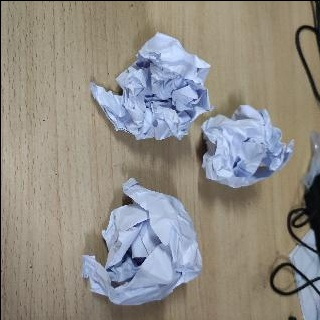8/可回收垃圾/纸: (80, 176, 203, 305), (89, 31, 212, 141), (201, 104, 294, 188)
